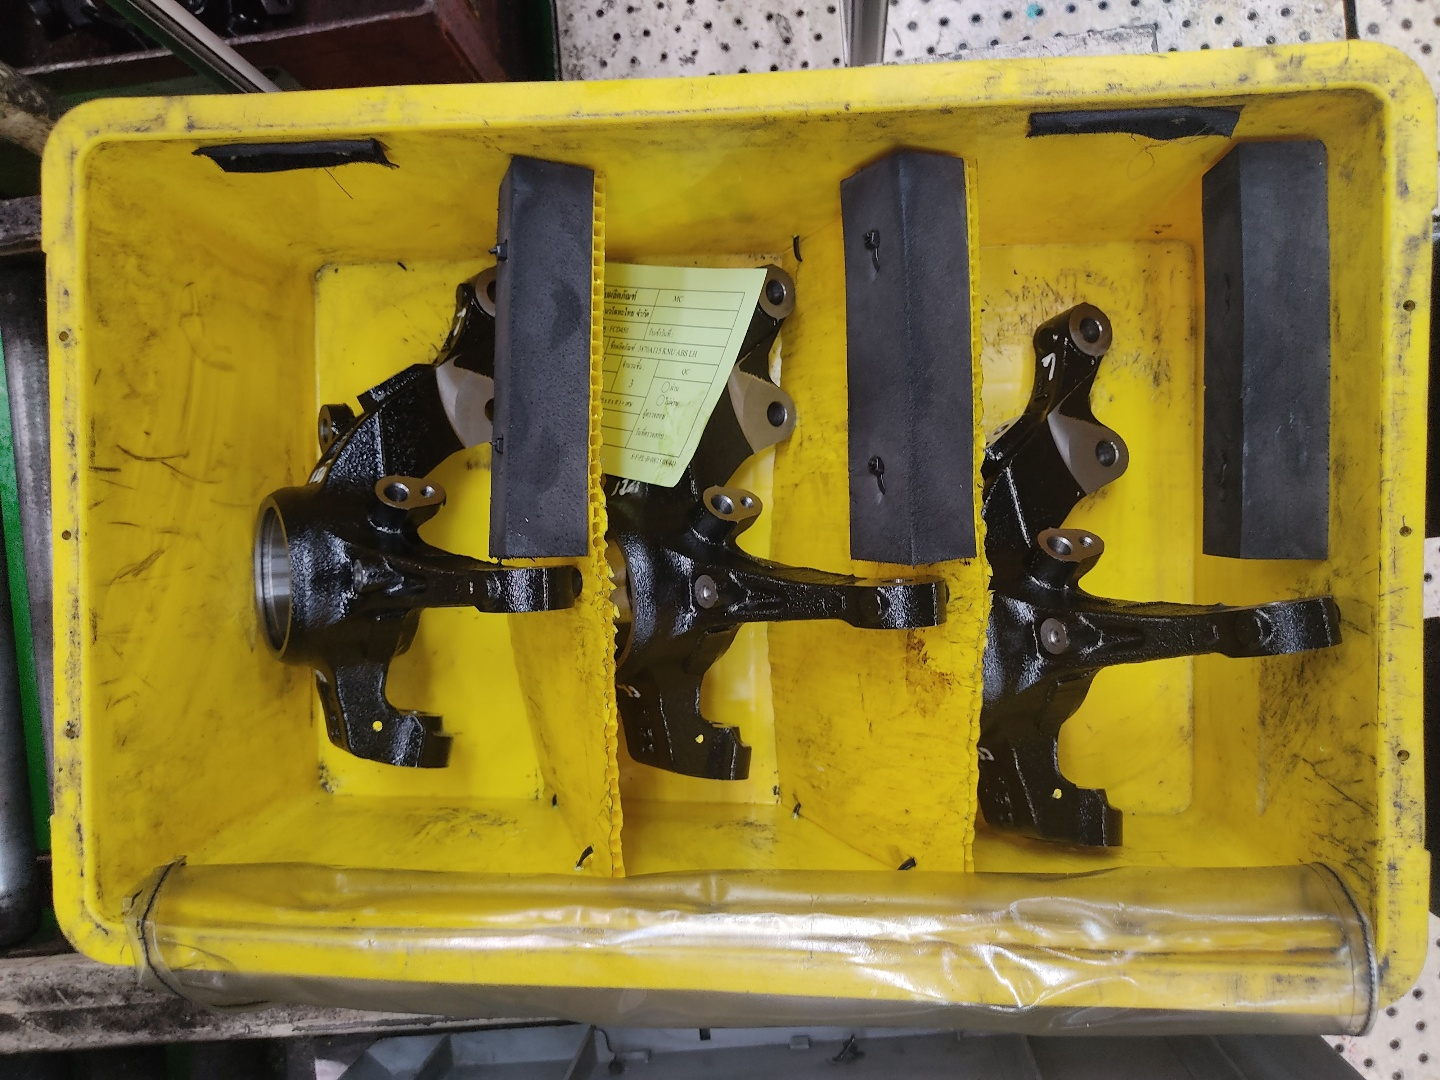abs-lh: (972, 292, 1349, 857), (240, 235, 590, 778), (603, 258, 950, 795)
